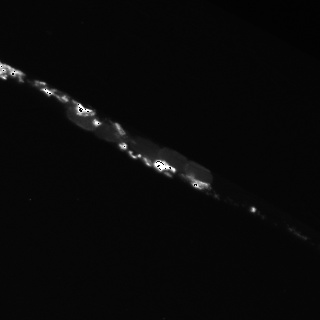embryo: (66, 102, 99, 130), (127, 136, 160, 161), (93, 121, 128, 144), (157, 147, 187, 173), (184, 161, 212, 186)
